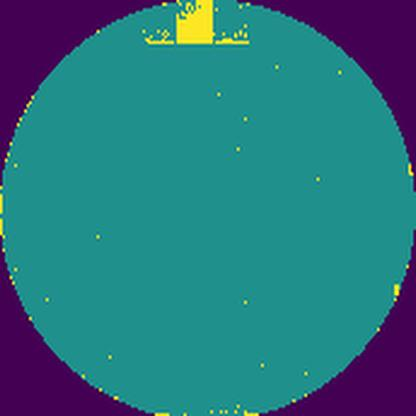Loc: (145, 0, 252, 46)
